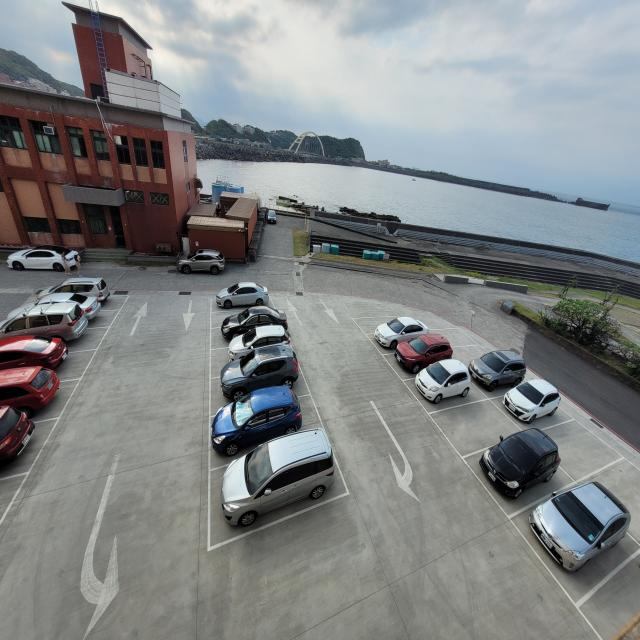car: (215, 428, 340, 532), (527, 478, 633, 572), (209, 388, 305, 454), (479, 423, 560, 498), (214, 345, 298, 402), (216, 300, 293, 341), (3, 305, 92, 340), (396, 330, 457, 374), (9, 242, 85, 277), (504, 376, 562, 420), (27, 290, 104, 322), (1, 332, 66, 368), (415, 358, 468, 402), (0, 366, 59, 405), (226, 326, 294, 358), (374, 313, 434, 349), (472, 347, 528, 385), (39, 278, 112, 306), (1, 408, 38, 462), (176, 248, 233, 279), (216, 280, 273, 310), (265, 208, 276, 225)
